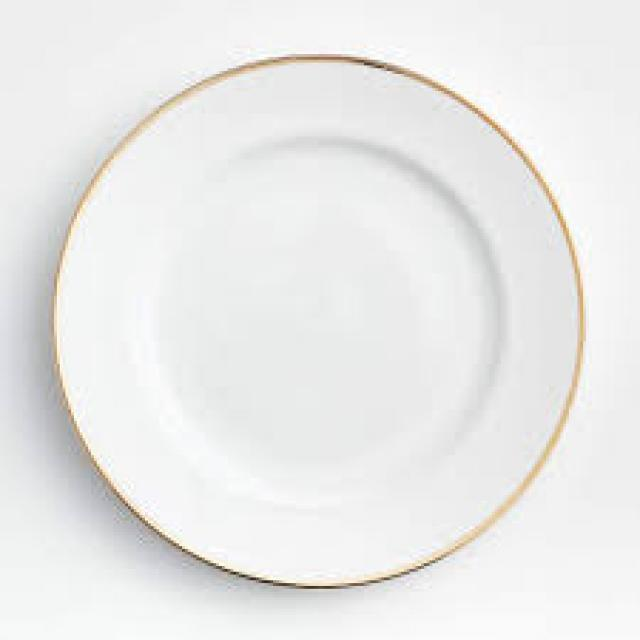plate: (43, 40, 593, 598)
